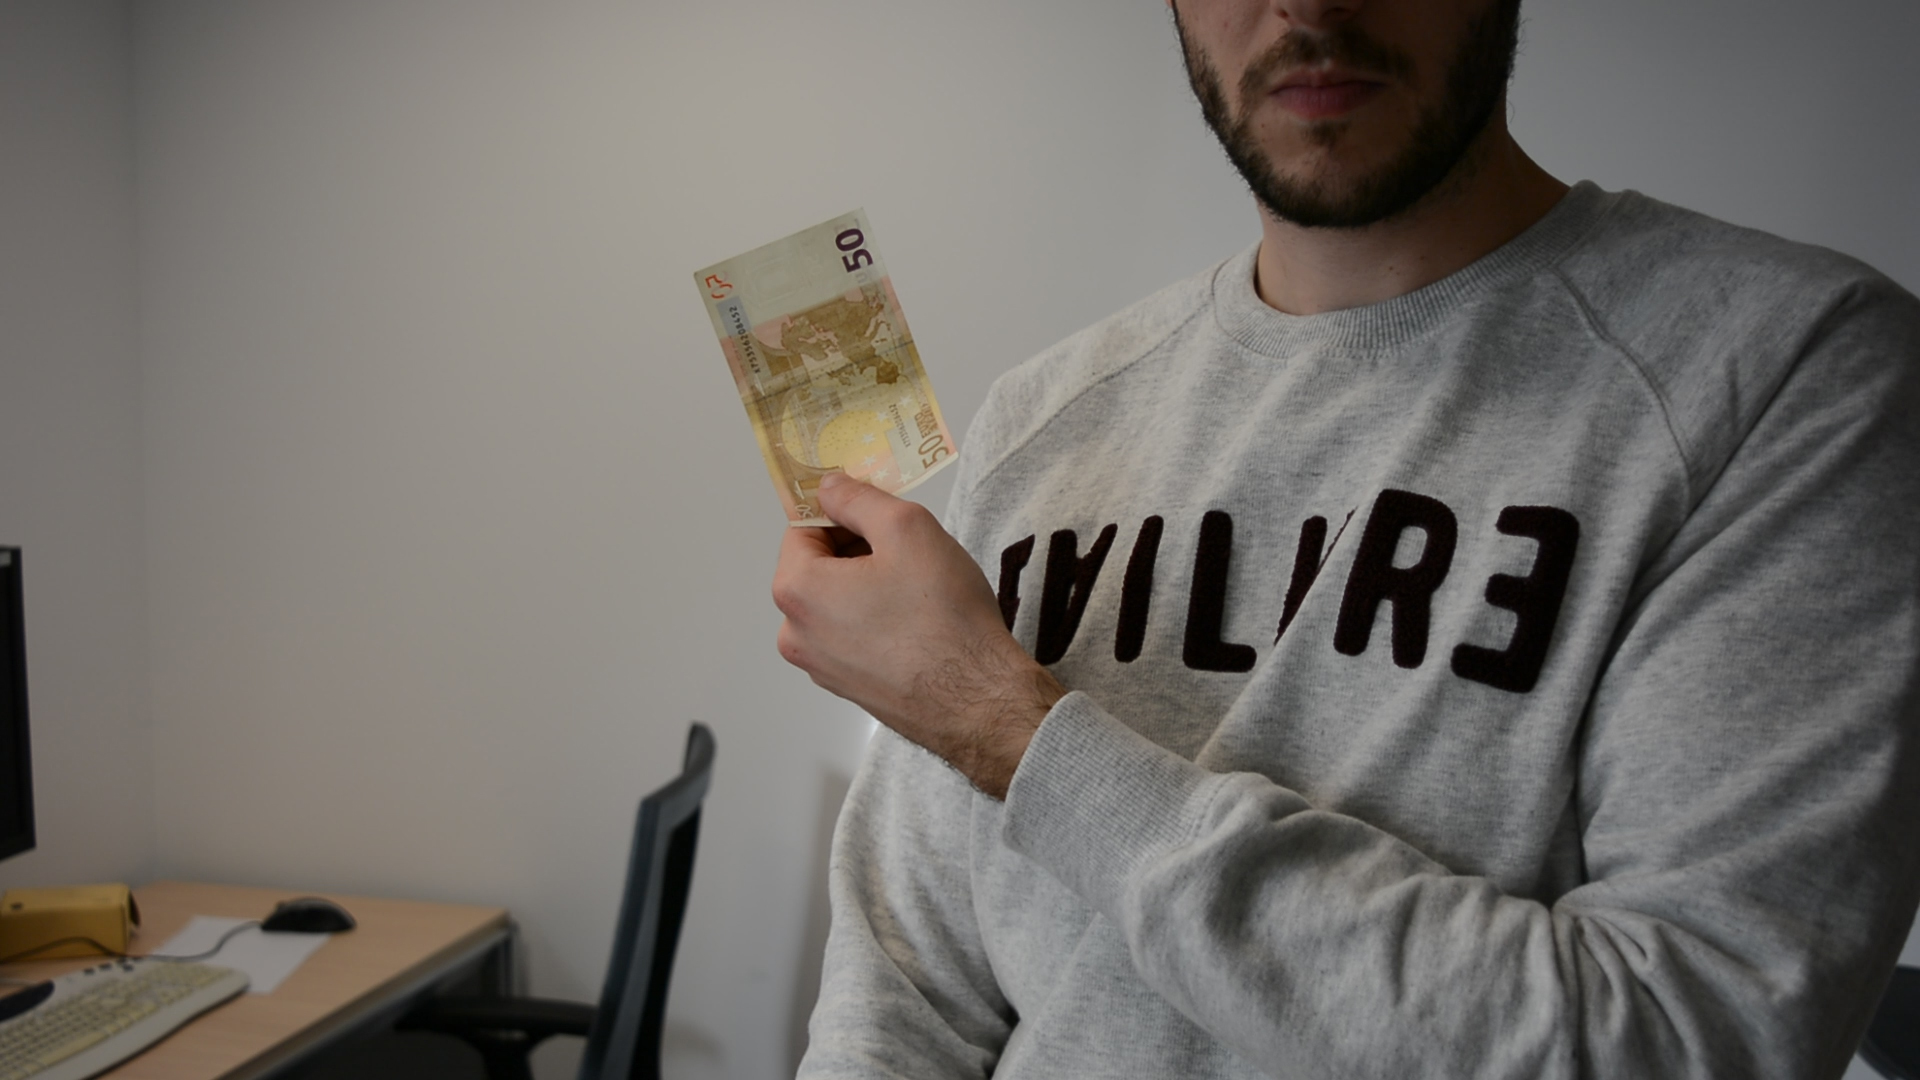billete: (694, 204, 961, 530)
